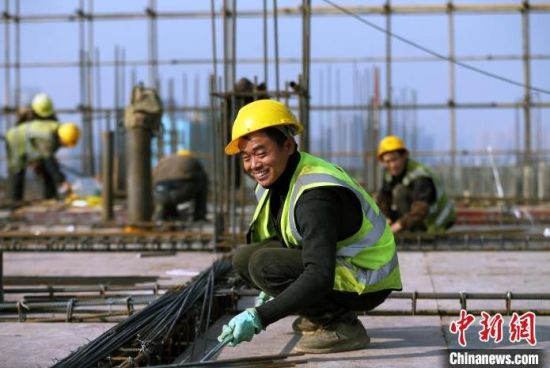safetyhat: (206, 100, 399, 360)
